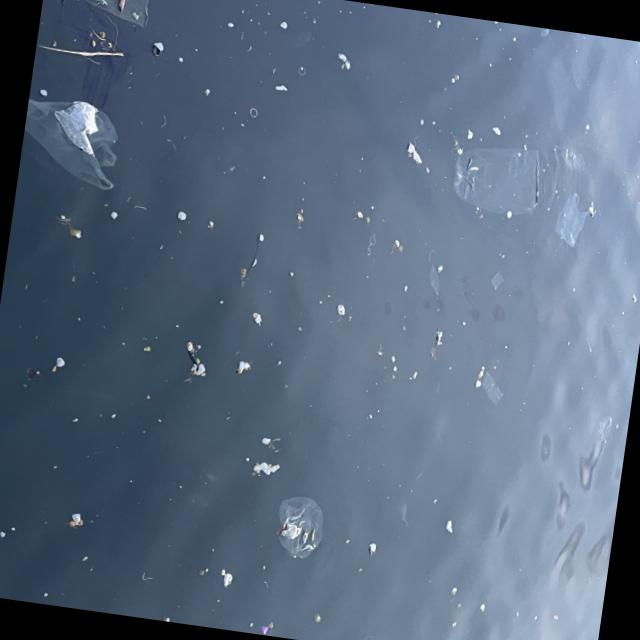foam: (406, 143, 427, 165)
plastic bag: (35, 91, 118, 199), (277, 492, 324, 560), (558, 187, 594, 246)
